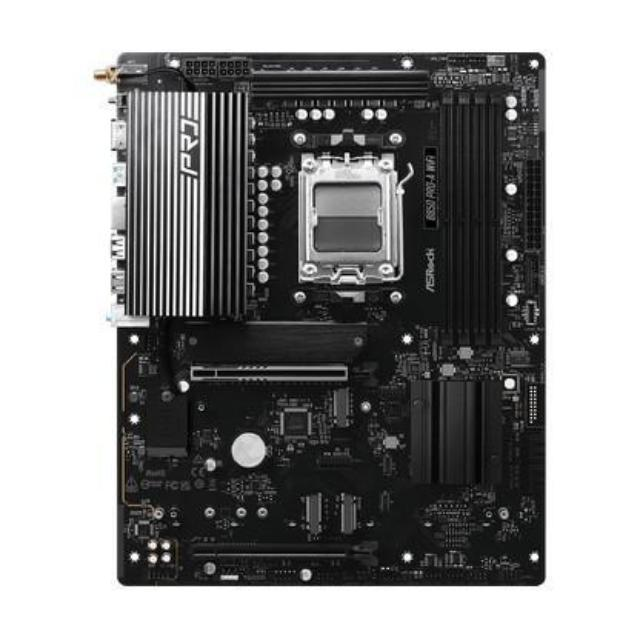Mainboard: (104, 47, 550, 596)
